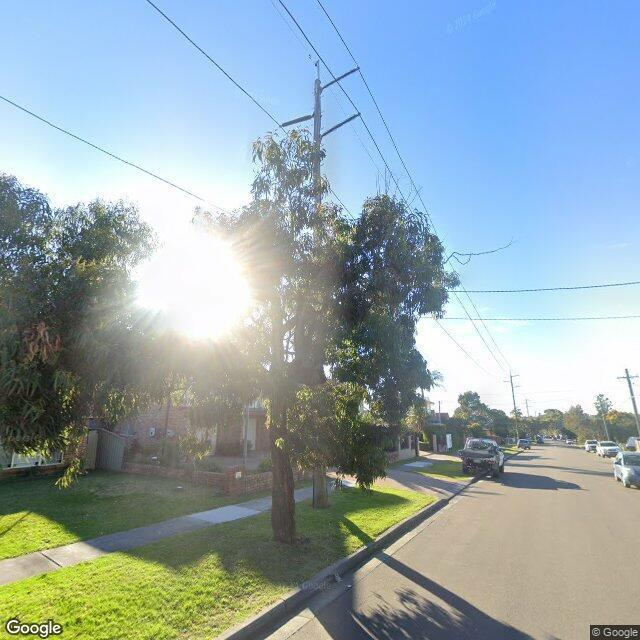HV-transmission: (281, 58, 362, 138), (504, 370, 520, 387)
crossarm: (616, 375, 638, 380)
timber-pole: (314, 77, 324, 510), (625, 368, 640, 437), (510, 376, 519, 444), (439, 401, 441, 425)
